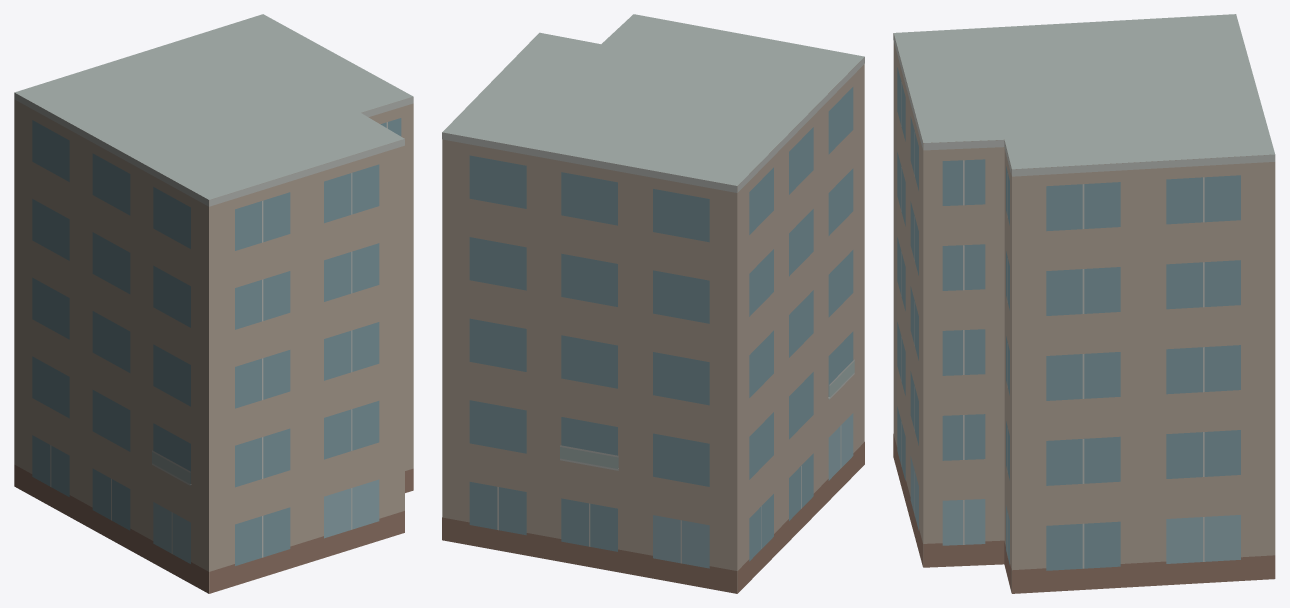
Rendered from survey-upis-32742251.glb.
The picture shows the model from 3 angles, left to right: view 1: azimuth 30°, elevation 25°; view 2: azimuth 150°, elevation 25°; view 3: azimuth 270°, elevation 25°; orthographic projection. The views are drawn at different scales.
Parts seen in each view (by area): view 1: survey-upis-32742251.tmp; view 2: survey-upis-32742251.tmp; view 3: survey-upis-32742251.tmp.
Boxes of the visible parts, x1,y1,x2,y2 form: survey-upis-32742251.tmp: (14,14,413,593); survey-upis-32742251.tmp: (442,14,864,593); survey-upis-32742251.tmp: (893,14,1275,593).
Size of the model in its own units: 11.07 by 14.1 by 11.5.
